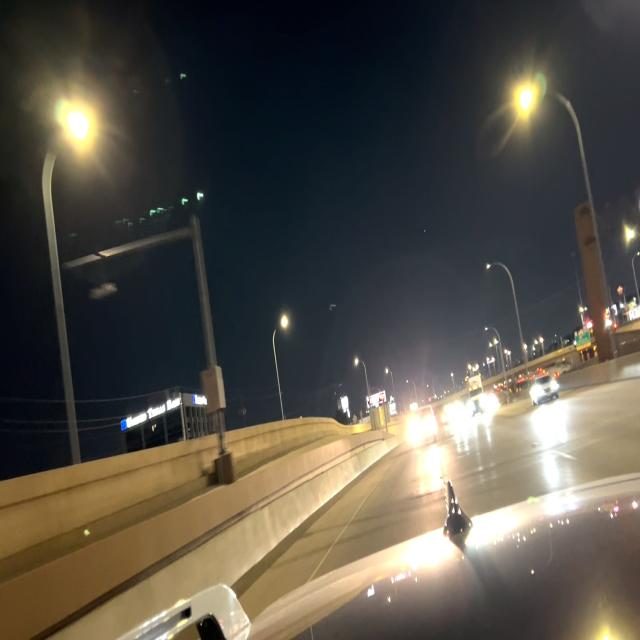back-of-sign: (371, 401, 391, 432)
